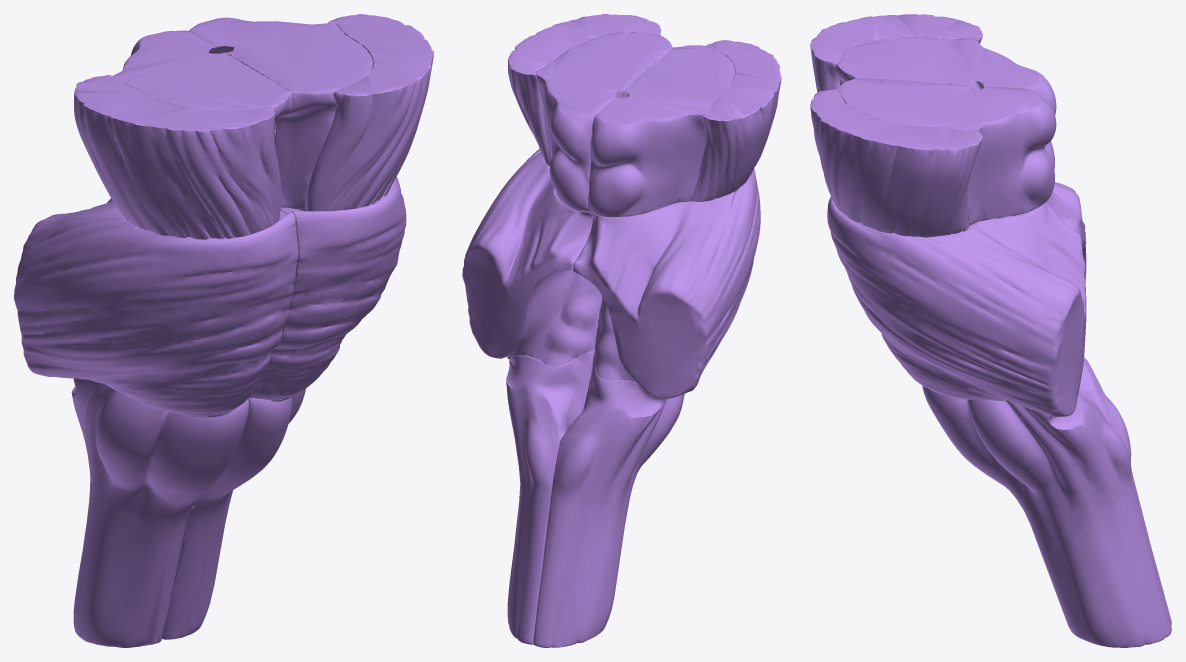
File: brainstem.glb
3 views of the same model, side by side, from view 1: azimuth 30°, elevation 25°; view 2: azimuth 150°, elevation 25°; view 3: azimuth 270°, elevation 25° (orthographic). The views are drawn at different scales.
Visible parts, largest first — view 1: grp1 (×3); view 2: grp1 (×3); view 3: grp1 (×3).
Part boxes in pixels (box(x1,y1,x2,y2)): grp1 (×3): box(14, 14, 433, 647); grp1 (×3): box(462, 14, 781, 647); grp1 (×3): box(810, 14, 1171, 647).
Size of the model in its own units: 0.0425 by 0.0813 by 0.048.
